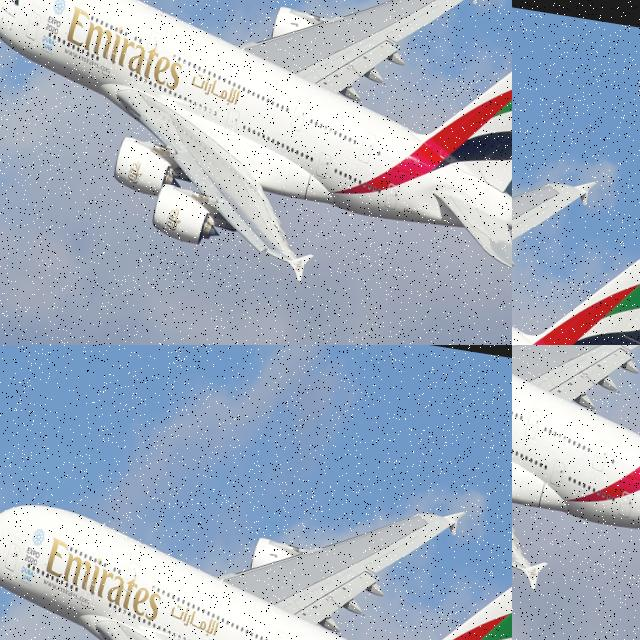A380: (512, 345, 640, 636)
Apache: (0, 0, 512, 175), (512, 0, 568, 343)
F22: (0, 345, 512, 640)
